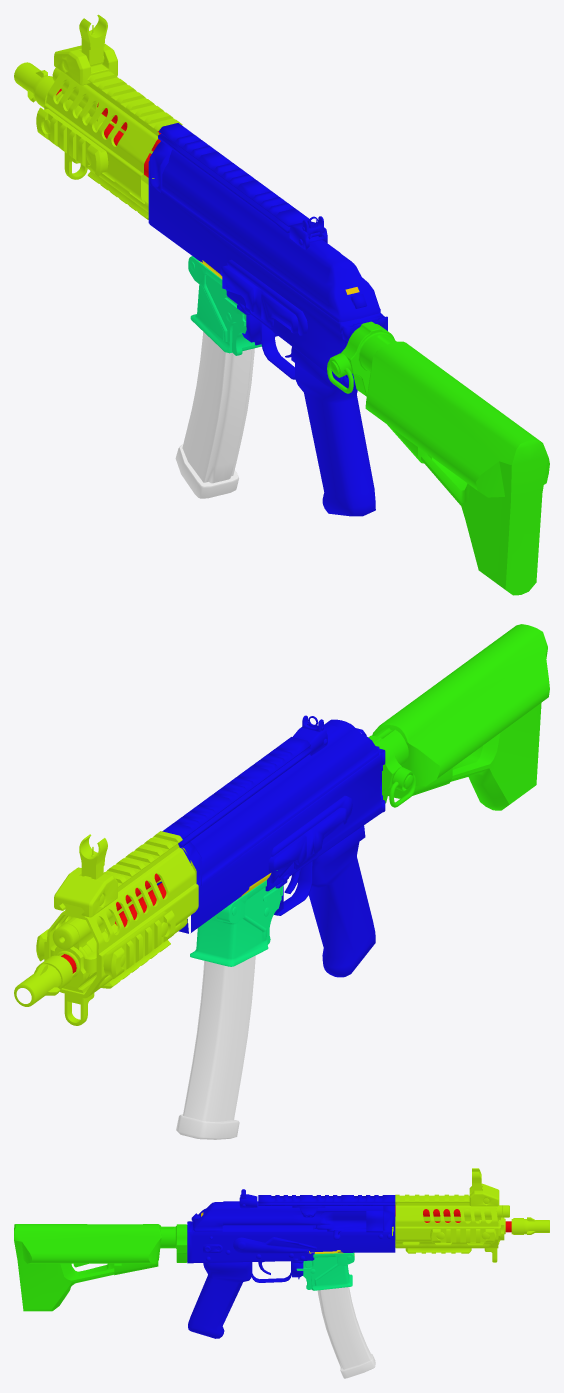
Rendered from gun.glb.
3 renders of one model, top to bottom at view 1: azimuth 30°, elevation 25°; view 2: azimuth 150°, elevation 25°; view 3: azimuth 270°, elevation 25°, orthographic. The views are drawn at different scales.
Parts seen in each view (by area): view 1: PP19Bizon, Remington R5, wpn_h1_smg_fang45_vm_camo_LOD0, mtl_kf5_base, wpn_h1_smg_fang45_vm_camo_LOD0.001; view 2: PP19Bizon, Remington R5, wpn_h1_smg_fang45_vm_camo_LOD0, mtl_kf5_base, wpn_h1_smg_fang45_vm_camo_LOD0.001; view 3: PP19Bizon, Remington R5, wpn_h1_smg_fang45_vm_camo_LOD0, mtl_kf5_base, wpn_h1_smg_fang45_vm_camo_LOD0.001.
Boxes of the visible parts, <box> form: PP19Bizon: <box>148,123,387,516</box>; Remington R5: <box>327,321,549,595</box>; wpn_h1_smg_fang45_vm_camo_LOD0: <box>14,14,182,219</box>; mtl_kf5_base: <box>175,332,254,498</box>; wpn_h1_smg_fang45_vm_camo_LOD0.001: <box>188,256,261,355</box>; PP19Bizon: <box>157,715,385,977</box>; Remington R5: <box>368,624,549,810</box>; wpn_h1_smg_fang45_vm_camo_LOD0: <box>14,831,198,1025</box>; mtl_kf5_base: <box>176,955,255,1139</box>; wpn_h1_smg_fang45_vm_camo_LOD0.001: <box>190,870,283,966</box>; PP19Bizon: <box>187,1189,395,1338</box>; Remington R5: <box>14,1224,187,1311</box>; wpn_h1_smg_fang45_vm_camo_LOD0: <box>392,1168,549,1262</box>; mtl_kf5_base: <box>317,1287,375,1378</box>; wpn_h1_smg_fang45_vm_camo_LOD0.001: <box>296,1250,354,1290</box>.
Bounding box in the file's own units: 2.54 × 9.91 × 23.48.
